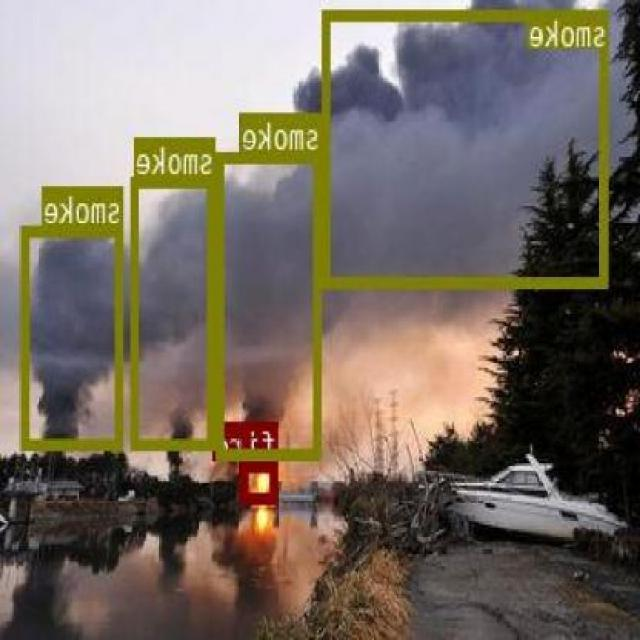Fire: (242, 460, 280, 502)
Smoke: (323, 9, 609, 286), (220, 150, 322, 458), (132, 174, 217, 446), (23, 226, 125, 448)
